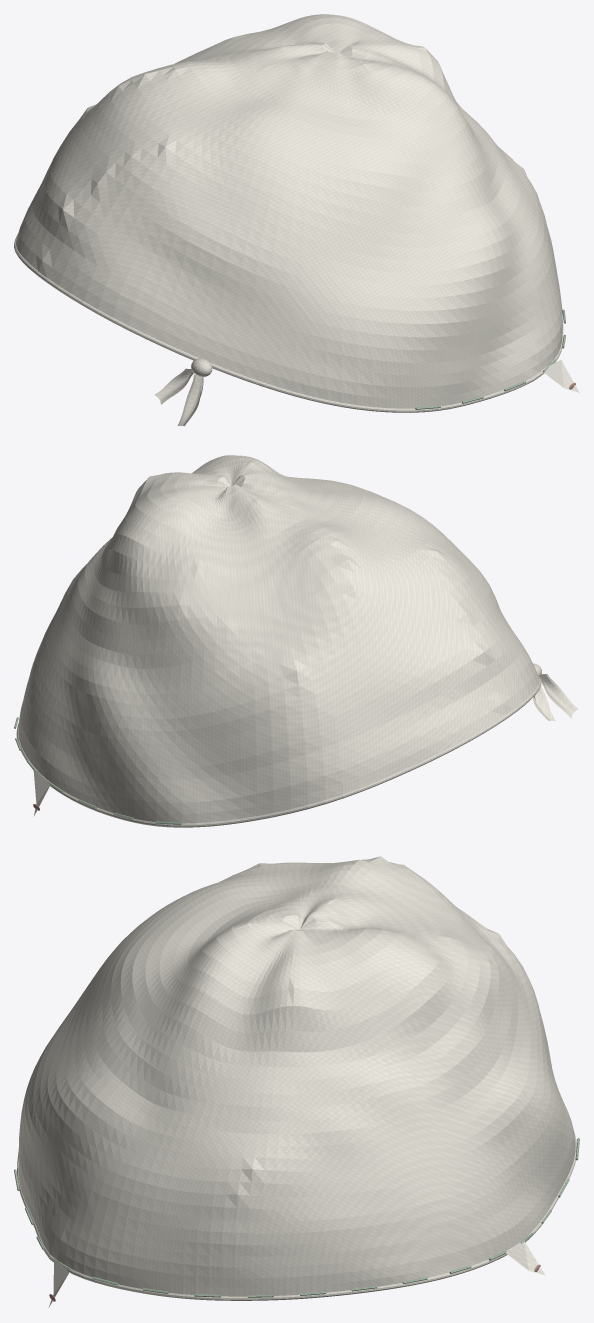
Rendered from side_h_herbalist_headcloth.glb.
3 views of the same model, one above another, from view 1: azimuth 30°, elevation 25°; view 2: azimuth 150°, elevation 25°; view 3: azimuth 270°, elevation 25° (orthographic). The views are drawn at different scales.
Parts seen in each view (by area): view 1: woven_cloth, folded_edge, wrap_ties, folded_kerchief_corner; view 2: woven_cloth, folded_edge, wrap_ties; view 3: woven_cloth, folded_edge, green_running_stitch, folded_kerchief_corner.
Part boxes in pixels (<box>): woven_cloth: <box>16,14,562,408</box>; folded_edge: <box>14,233,563,412</box>; wrap_ties: <box>154,368,203,426</box>; folded_kerchief_corner: <box>541,360,579,392</box>; woven_cloth: <box>18,455,539,823</box>; folded_edge: <box>16,663,541,827</box>; wrap_ties: <box>533,673,577,720</box>; woven_cloth: <box>18,856,575,1296</box>; folded_edge: <box>17,1132,576,1300</box>; green_running_stitch: <box>14,1138,579,1297</box>; folded_kerchief_corner: <box>48,1240,545,1307</box>.
Size of the model in its own units: 21.54 by 12.69 by 20.31.
7 materials, 7 textured.
